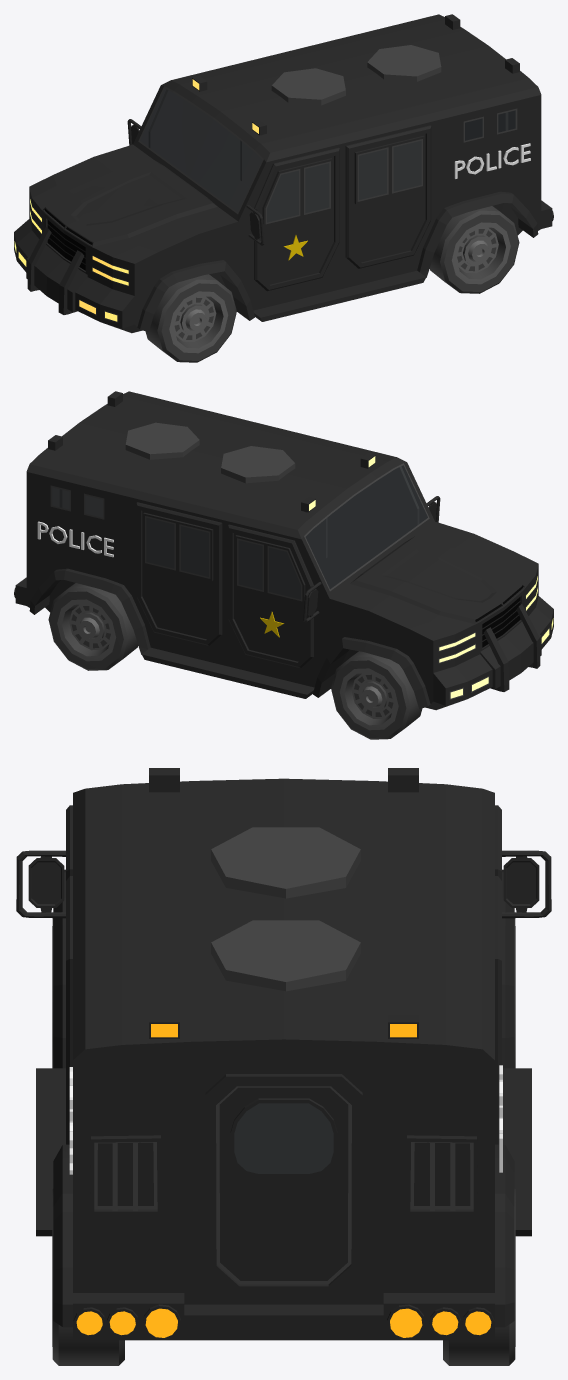
Rendered from military-utility.glb.
3 views of the same model, one above another, from view 1: azimuth 30°, elevation 25°; view 2: azimuth 150°, elevation 25°; view 3: azimuth 270°, elevation 25° (orthographic). The views are drawn at different scales.
Visible parts, largest first — view 1: Military Vehicle_3, Military Vehicle_3 FL Tire, Military Vehicle_3 BL Tire; view 2: Military Vehicle_3, Military Vehicle_3 FR Tire, Military Vehicle_3 BR Tire; view 3: Military Vehicle_3, Military Vehicle_3 BL Tire, Military Vehicle_3 BR Tire.
Boxes of the visible parts, left/top/right/bottom form: Military Vehicle_3: left=14, top=14, right=553, bottom=333; Military Vehicle_3 FL Tire: left=145, top=274, right=236, bottom=362; Military Vehicle_3 BL Tire: left=429, top=206, right=519, bottom=293; Military Vehicle_3: left=14, top=391, right=553, bottom=710; Military Vehicle_3 FR Tire: left=331, top=651, right=422, bottom=739; Military Vehicle_3 BR Tire: left=48, top=583, right=138, bottom=670; Military Vehicle_3: left=16, top=768, right=551, bottom=1340; Military Vehicle_3 BL Tire: left=52, top=1189, right=124, bottom=1365; Military Vehicle_3 BR Tire: left=443, top=1189, right=515, bottom=1365.
Bounding box in the file's own units: 4.75 × 1.97 × 2.41.
3 materials, 2 textured.
